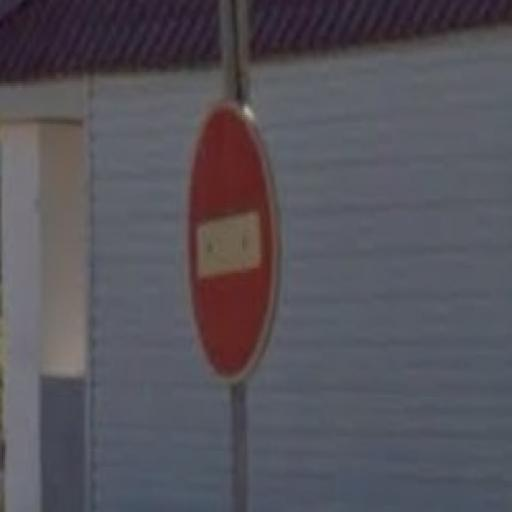traffic_sign: (184, 98, 278, 387)
